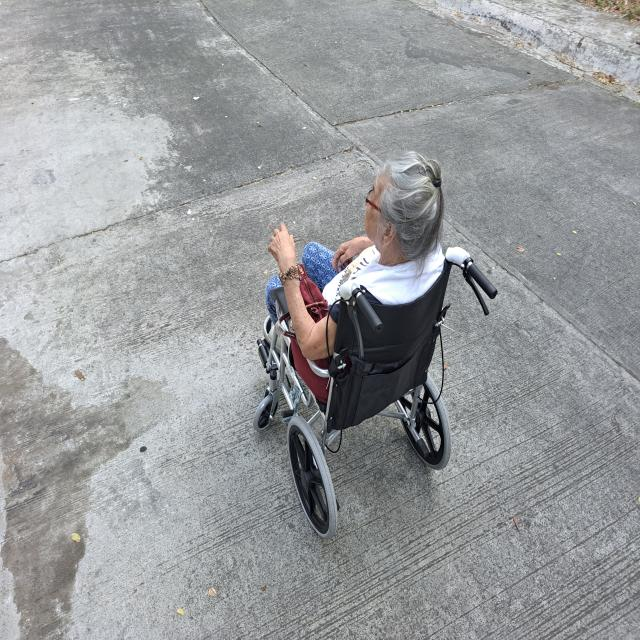wheelchairs: (252, 240, 504, 547)
